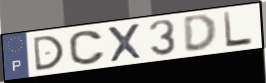3: (147, 19, 178, 58)
C: (67, 29, 107, 67)
D: (181, 13, 219, 53), (31, 34, 66, 73)
L: (221, 10, 255, 50)
X: (105, 21, 145, 64)
